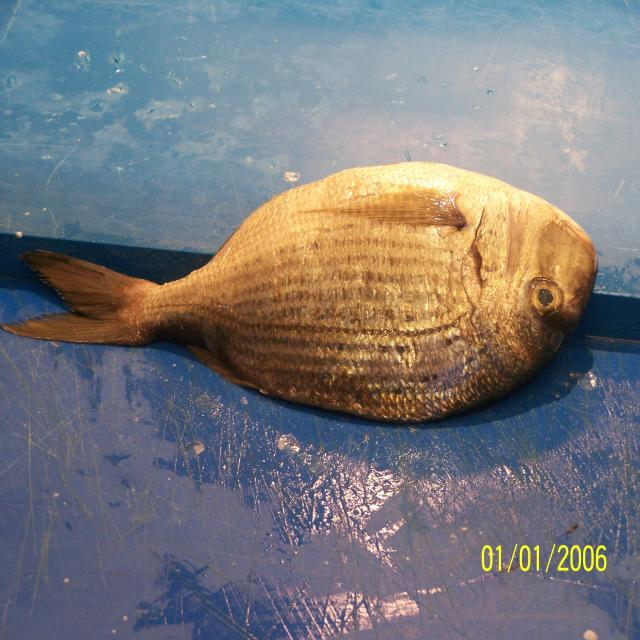Red-Sea-Bream-mercan-: (2, 162, 598, 426)
